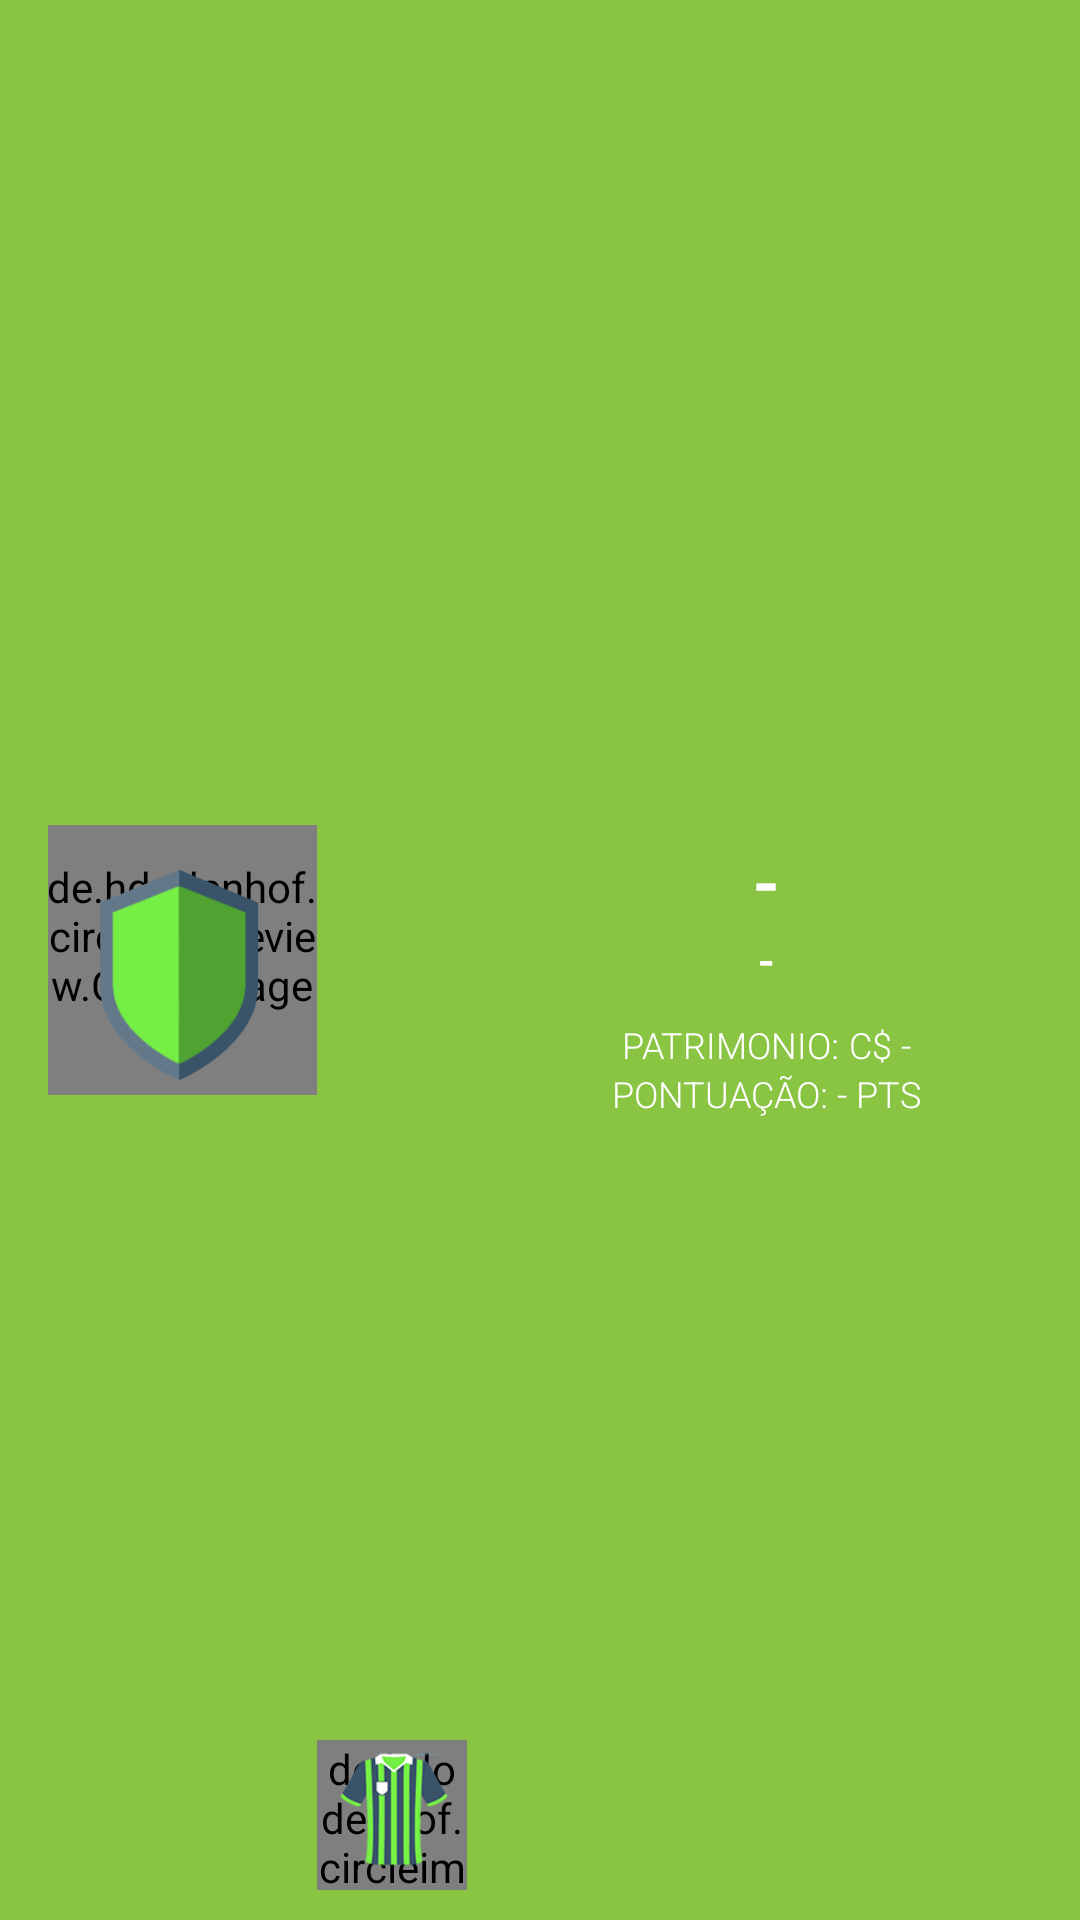

Icons on this 1080px×1920px Android screen, each with the point to tap as point (x, y):
camisa: point (392, 1811)
escudo: point (182, 975)
